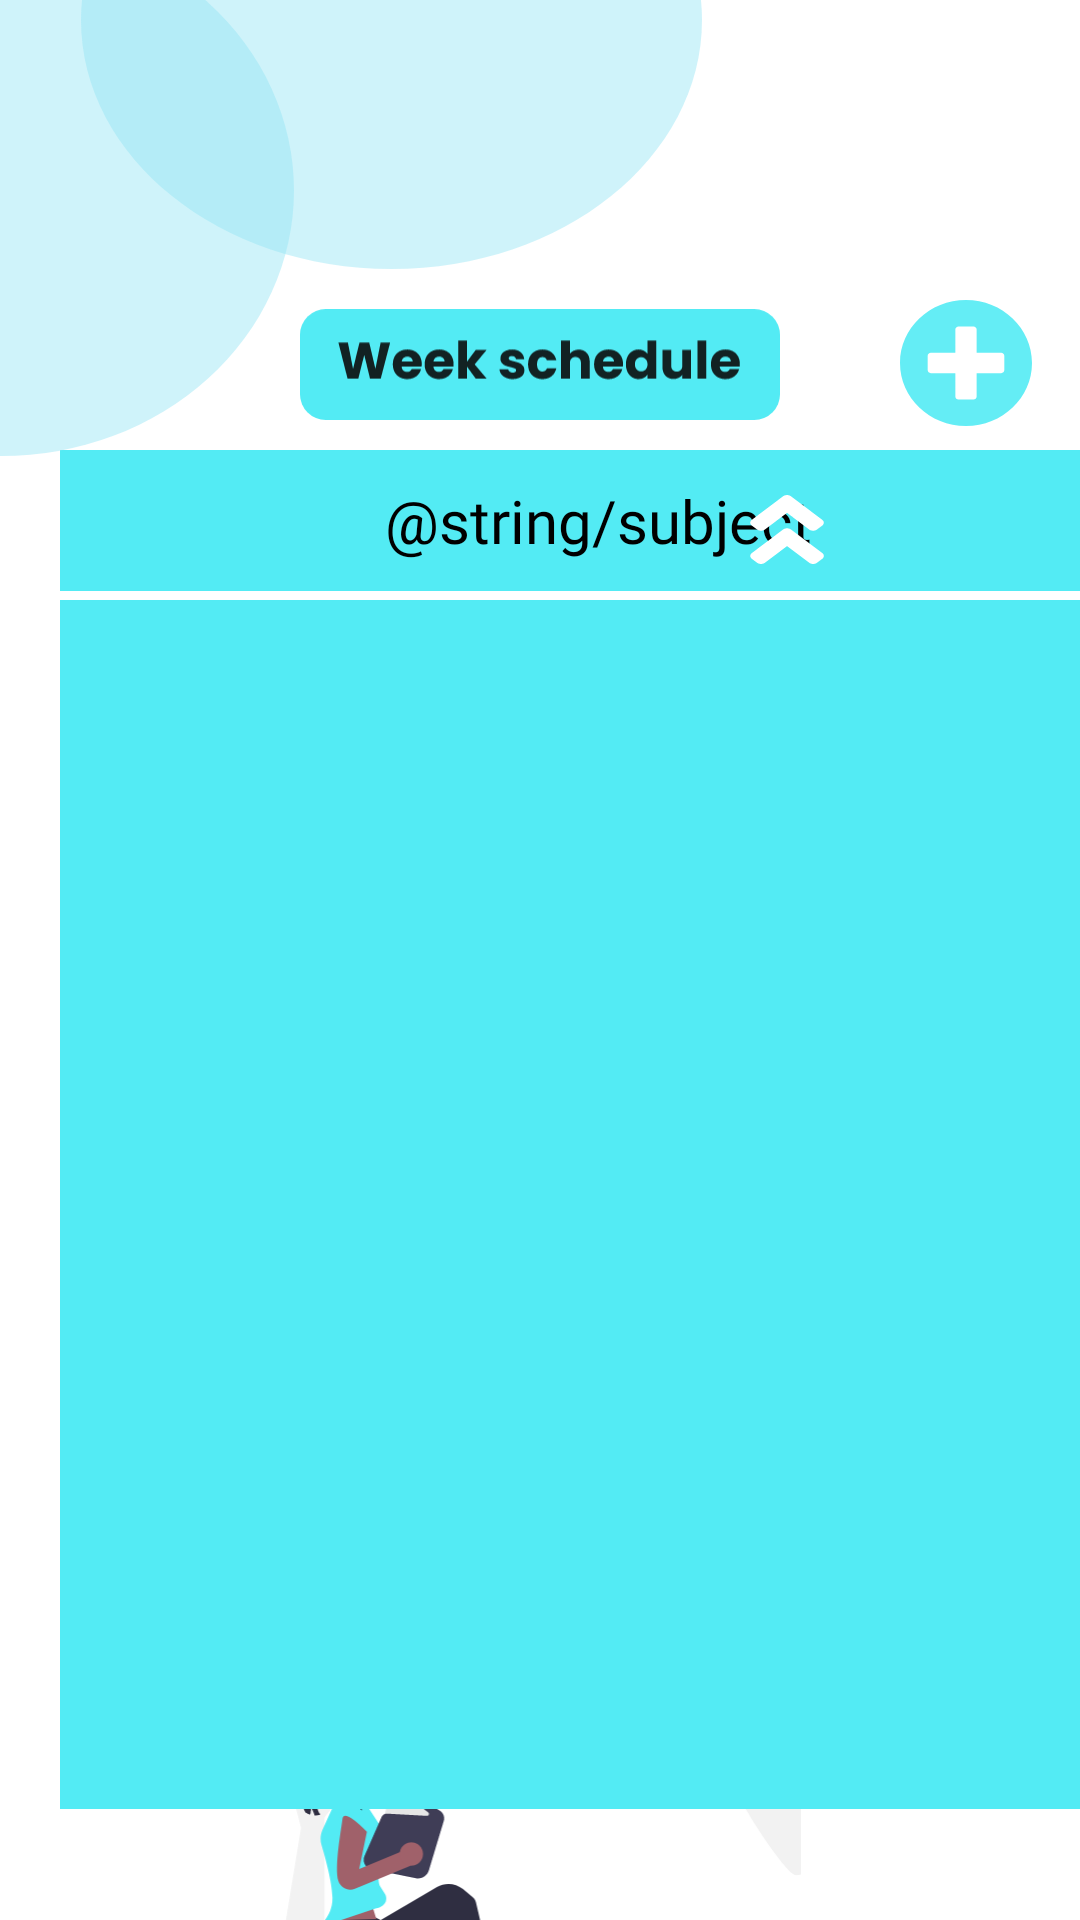

Icons on this 1080px x 1920px Android screen, each with the point to tap as (x=x, y=y):
add botton: (x=966, y=363)
higher: (x=787, y=529)
